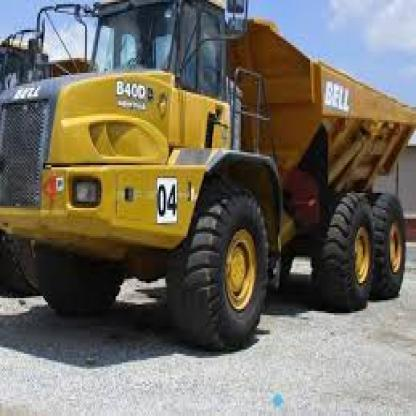dump_truck: (1, 0, 414, 356)
